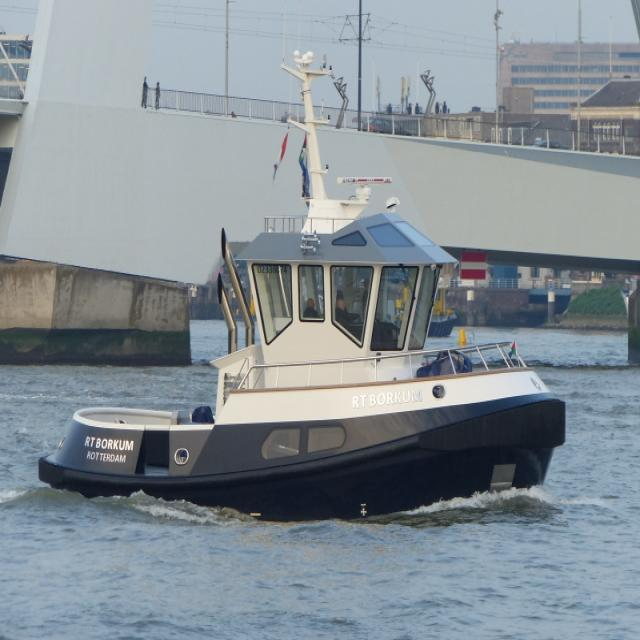tugboat: (35, 49, 571, 535)
